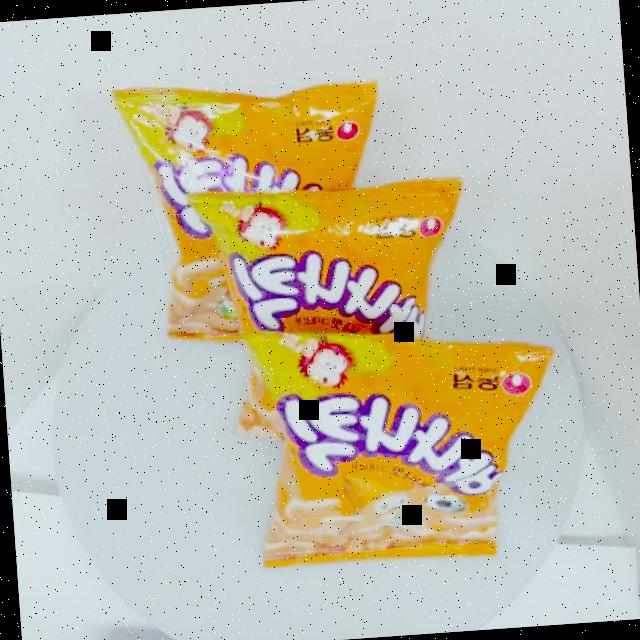snack_bag: (102, 49, 576, 584)
